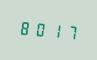eight: (18, 17, 32, 38)
one: (48, 20, 62, 41)
seven: (63, 21, 77, 42)
zero: (33, 18, 47, 39)
